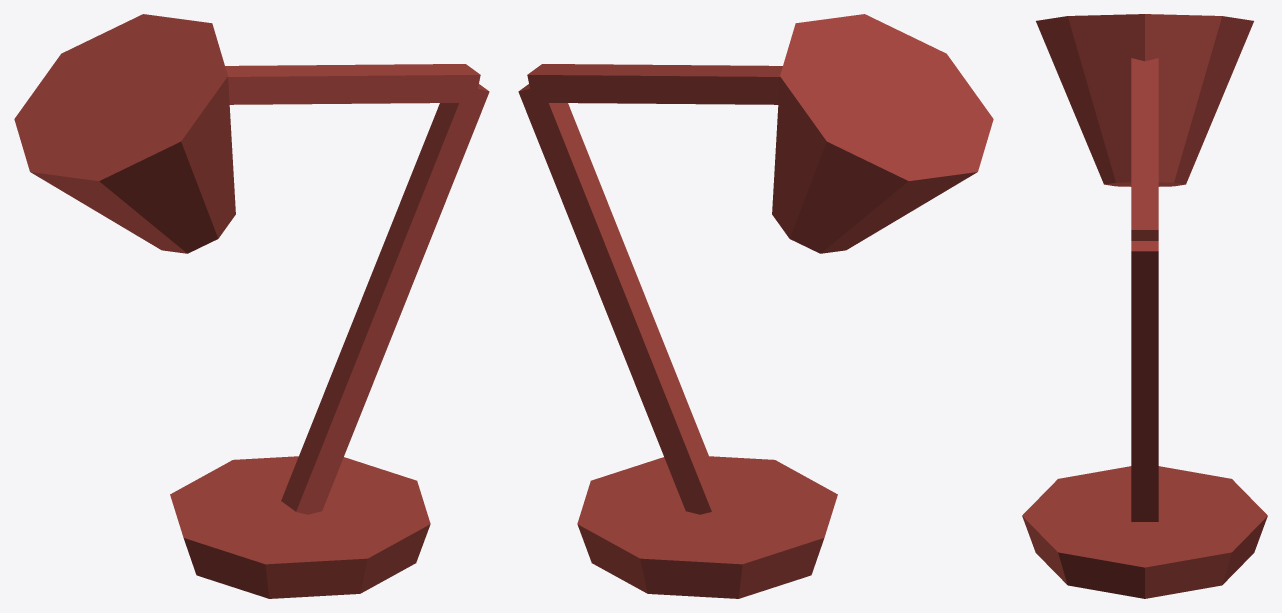
File: table-lamp-19.glb
3 views of the same model, side by side, from view 1: azimuth 30°, elevation 25°; view 2: azimuth 150°, elevation 25°; view 3: azimuth 270°, elevation 25° (orthographic). The views are drawn at different scales.
Visible parts, largest first — view 1: table_lamp_19; view 2: table_lamp_19; view 3: table_lamp_19.
Boxes of the visible parts, x1,y1,x2,y2 form: table_lamp_19: (14,14,489,598); table_lamp_19: (518,14,993,598); table_lamp_19: (1022,14,1267,598).
Size of the model in its own units: 0.3483 by 0.4035 by 0.18.
